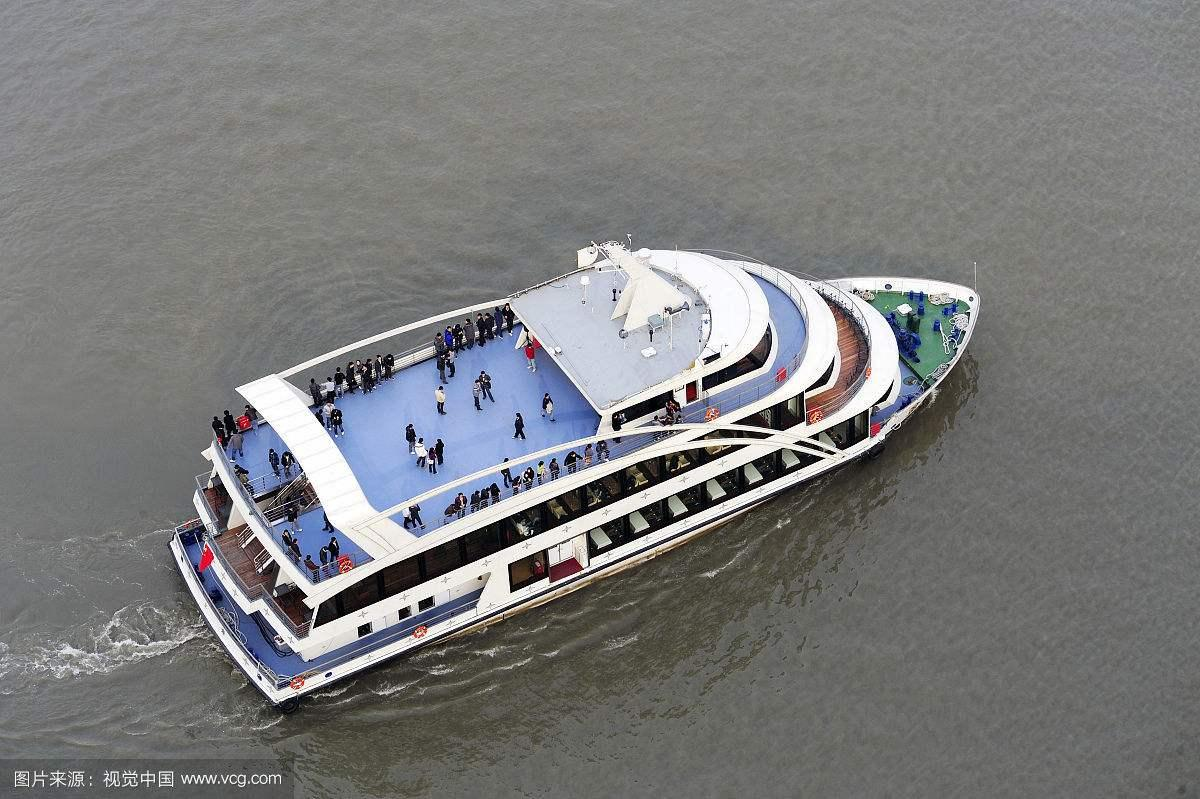yacht: (171, 242, 985, 697)
